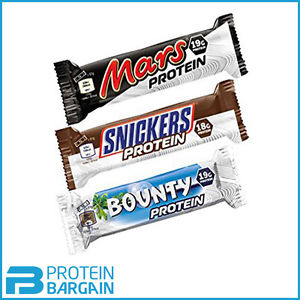snickers: (103, 105, 190, 153)
